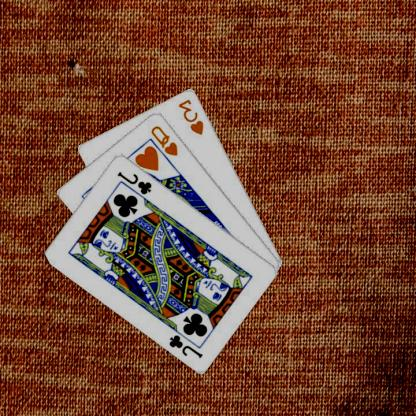3H: (177, 96, 207, 136)
JC: (116, 169, 155, 196), (168, 332, 206, 359)
QH: (150, 123, 181, 157)
